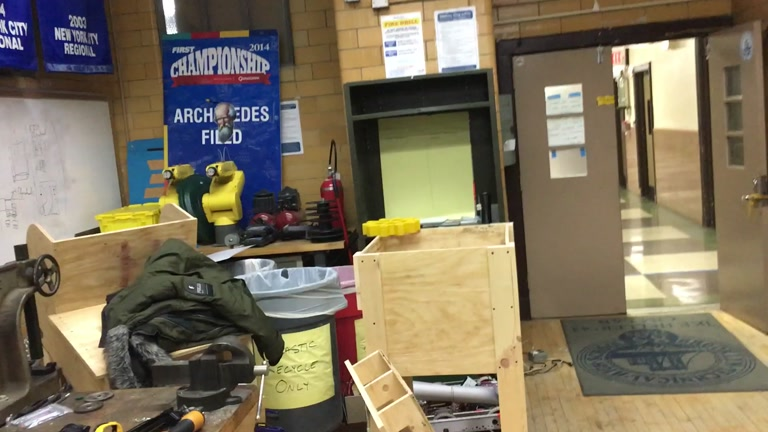gear: (362, 215, 419, 237)
